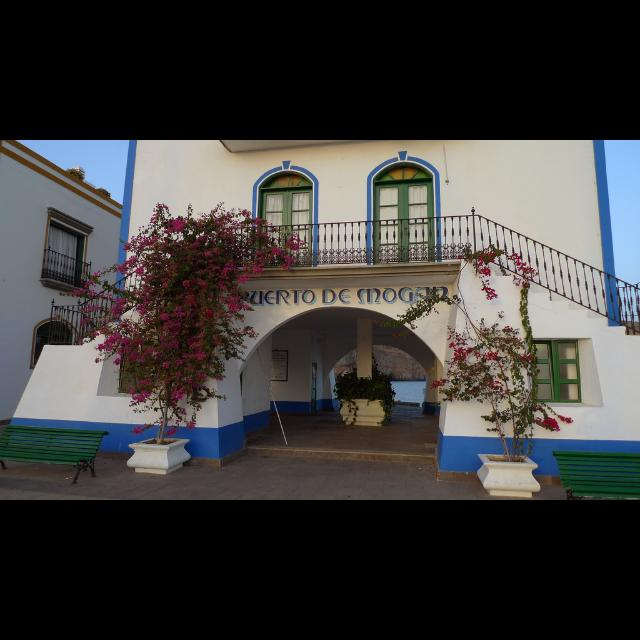Flower: (260, 264, 266, 268)
